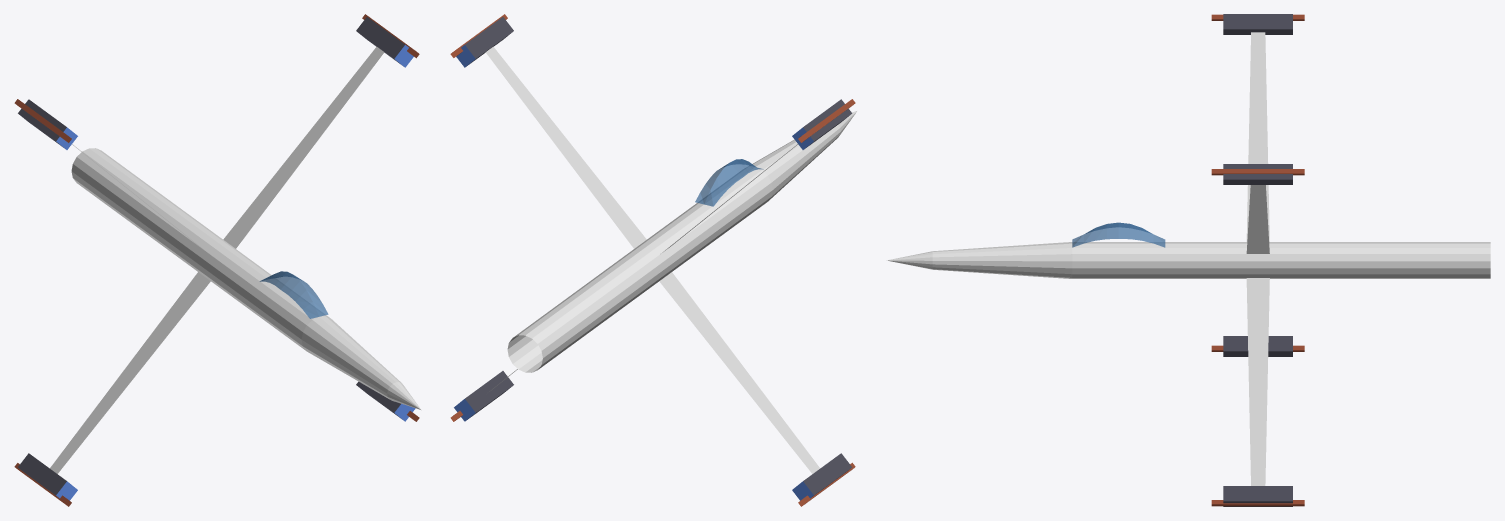
Rendered from xwing.obj.
3 renders of one model, left to right at view 1: azimuth 30°, elevation 25°; view 2: azimuth 150°, elevation 25°; view 3: azimuth 270°, elevation 25°, orthographic. The views are drawn at different scales.
Size of the model in its own units: 16.27 by 16.27 by 26.
